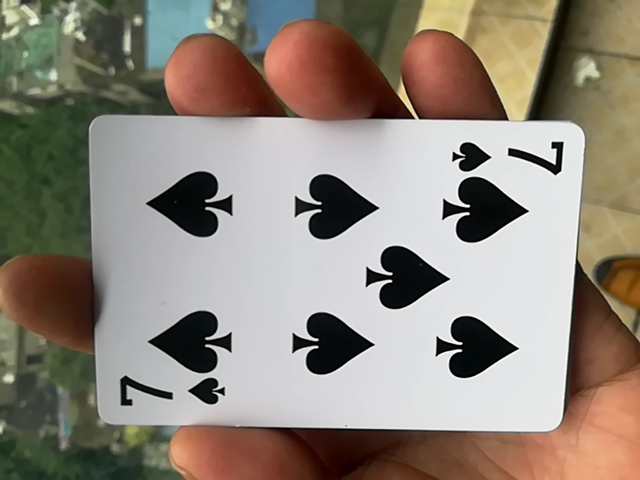ht 7: (72, 113, 575, 445)
